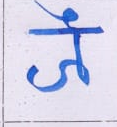ai_matra: (33, 1, 82, 28)
